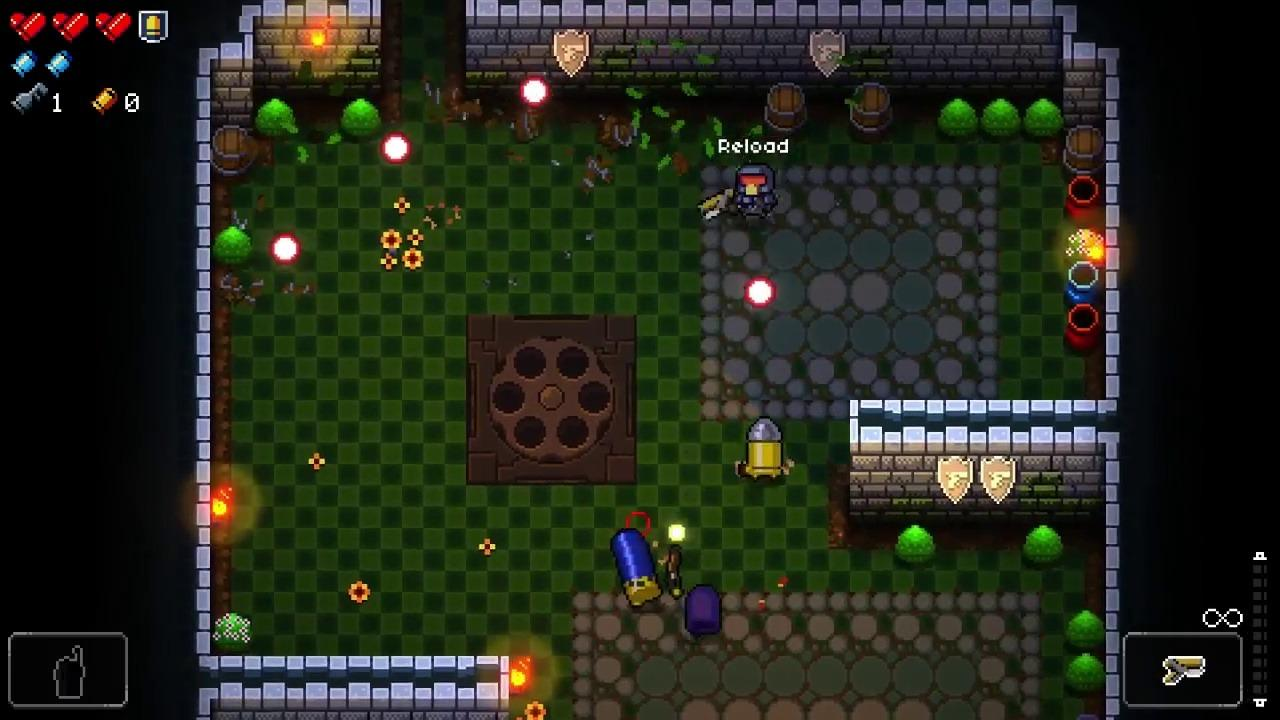blue_shotgun_kin: (611, 529, 663, 607)
bullet: (520, 77, 549, 106), (382, 134, 410, 164), (746, 278, 774, 308), (272, 235, 300, 264)
bullet_kin: (746, 417, 785, 481)
player: (734, 163, 779, 220)
rubber_kin: (685, 584, 722, 637)
teleporter: (467, 312, 637, 484)
